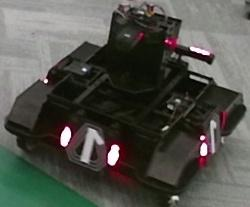armor_1: (61, 126, 120, 166)
front_1: (68, 122, 108, 172)
left_1: (205, 112, 222, 155)
